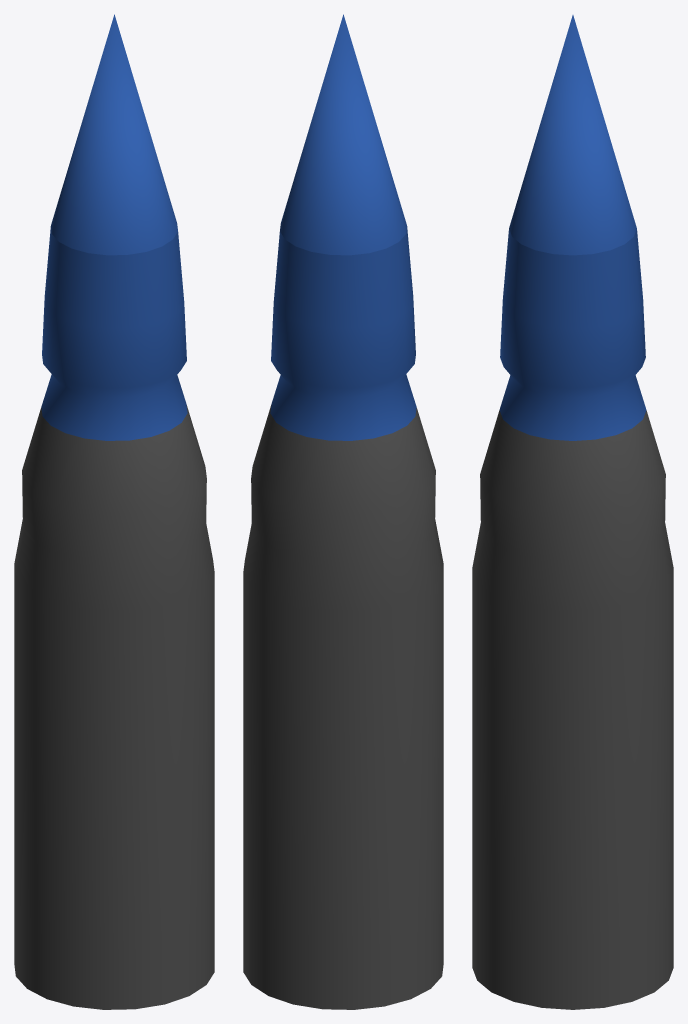
Rendered from gen25mm_shell.fbx.
The picture shows the model from 3 angles, left to right: view 1: azimuth 30°, elevation 25°; view 2: azimuth 150°, elevation 25°; view 3: azimuth 270°, elevation 25°; orthographic projection.
Parts seen in each view (by area): view 1: generalAmmo; view 2: generalAmmo; view 3: generalAmmo.
Boxes of the visible parts, bbox=[...] form: generalAmmo: bbox=[14, 14, 214, 1009]; generalAmmo: bbox=[243, 14, 443, 1009]; generalAmmo: bbox=[472, 15, 673, 1009].
Size of the model in its own units: 0.4009 by 2.09 by 0.4009.
